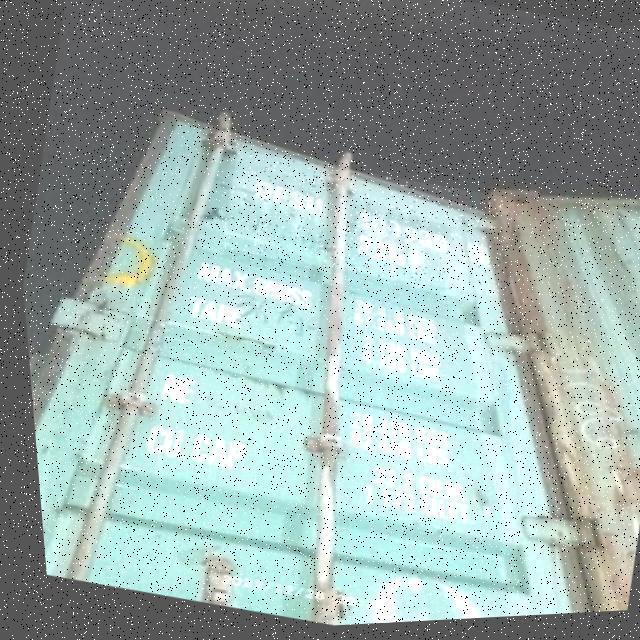container_number_h: (211, 141, 518, 314)
